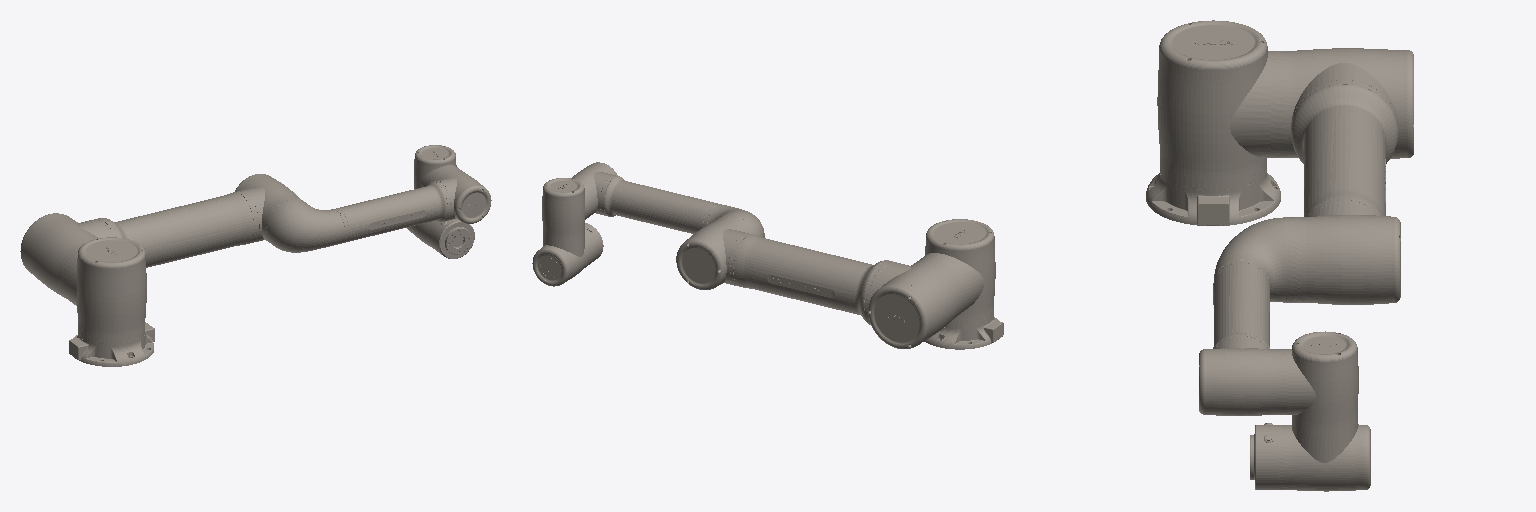
robot.urdf — jaka_zu18:
<?xml version="1.0" encoding="utf-8"?>
<!-- This URDF was automatically created by SolidWorks to URDF Exporter! Originally created by [author] ([email redacted]) 
     Commit Version: 1.5.1-0-g916b5db  Build Version: 1.5.7152.31018
     For more information, please see http://wiki.ros.org/sw_urdf_exporter -->
<robot
  name="jaka_zu18">

  <link name="world" />
  

  <joint name="fixed" type="fixed">
     <parent link="world"/>
     <child link="Link_0"/>
  </joint>

  <link
    name="Link_0">
    <inertial>
      <origin
        xyz="0.00090083 -2.9488E-07 0.020561"
        rpy="0 0 0" />
      <mass
        value="0.8175" />
      <inertia
        ixx="0.010034"
        ixy="-3.1423E-09"
        ixz="5.025E-05"
        iyy="0.01287"
        iyz="2.3128E-08"
        izz="0.021463" />
    </inertial>
    <visual>
      <origin
        xyz="0 0 0"
        rpy="0 0 0" />
      <geometry>
        <mesh
          filename="package://jaka_description/meshes/jaka_zu18_meshes/base_link.STL" />
      </geometry>
      <material
        name="">
        <color
          rgba="0.64706 0.61961 0.58824 1" />
      </material>
    </visual>
    <collision>
      <origin
        xyz="0 0 0"
        rpy="0 0 0" />
      <geometry>
        <mesh
          filename="package://jaka_description/meshes/jaka_zu18_meshes/base_link.STL" />
      </geometry>
    </collision>
  </link>
  <link
    name="Link_1">
    <inertial>
      <origin
        xyz="-1.3532E-07 0.0039698 -0.0033275"
        rpy="0 0 0" />
      <mass
        value="3.78" />
      <inertia
        ixx="0.13784"
        ixy="1.785E-07"
        ixz="-5.8341E-07"
        iyy="0.1346"
        iyz="-0.00028533"
        izz="0.092584" />
    </inertial>
    <visual>
      <origin
        xyz="0 0 0"
        rpy="0 0 0" />
      <geometry>
        <mesh
          filename="package://jaka_description/meshes/jaka_zu18_meshes/Link_01.STL" />
      </geometry>
      <material
        name="">
        <color
          rgba="0.64706 0.61961 0.58824 1" />
      </material>
    </visual>
    <collision>
      <origin
        xyz="0 0 0"
        rpy="0 0 0" />
      <geometry>
        <mesh
          filename="package://jaka_description/meshes/jaka_zu18_meshes/Link_01.STL" />
      </geometry>
    </collision>
  </link>
  <joint
    name="joint_1"
    type="revolute">
    <origin
      xyz="0 0 0.14265"
      rpy="0 0 0" />
    <parent
      link="Link_0" />
    <child
      link="Link_1" />
    <axis
      xyz="0 0 -1" />
    <limit
      lower="-6.28"
      upper="6.28"
      effort="2000"
      velocity="1.57" />
    <dynamics damping="30" friction="20"/>
  </joint>
  <link
    name="Link_2">
    <inertial>
      <origin
        xyz="0.20686 3.446E-07 -0.18004"
        rpy="0 0 0" />
      <mass
        value="9.68" />
      <inertia
        ixx="0.2333"
        ixy="1.612E-06"
        ixz="0.013448"
        iyy="3.2427"
        iyz="1.1055E-07"
        izz="3.1836" />
    </inertial>
    <visual>
      <origin
        xyz="0 0 0"
        rpy="0 0 0" />
      <geometry>
        <mesh
          filename="package://jaka_description/meshes/jaka_zu18_meshes/Link_02.STL" />
      </geometry>
      <material
        name="">
        <color
          rgba="0.64706 0.61961 0.58824 1" />
      </material>
    </visual>
    <collision>
      <origin
        xyz="0 0 0"
        rpy="0 0 0" />
      <geometry>
        <mesh
          filename="package://jaka_description/meshes/jaka_zu18_meshes/Link_02.STL" />
      </geometry>
    </collision>
  </link>
  <joint
    name="joint_2"
    type="revolute">
    <origin
      xyz="0 0 0"
      rpy="1.5708 0 0" />
    <parent
      link="Link_1" />
    <child
      link="Link_2" />
    <axis
      xyz="0 0 1" />
    <limit
      lower="-1.48"
      upper="4.62"
      effort="8000"
      velocity="1.57" />
    <dynamics damping="30" friction="20"/>
  </joint>
  <link
    name="Link_3">
    <inertial>
      <origin
        xyz="0.2114 -1.2507E-07 -0.046052"
        rpy="0 0 0" />
      <mass
        value="3.1" />
      <inertia
        ixx="0.030746"
        ixy="2.2248E-07"
        ixz="-0.026496"
        iyy="0.59871"
        iyz="-7.3813E-08"
        izz="0.59285" />
    </inertial>
    <visual>
      <origin
        xyz="0 0 0"
        rpy="0 0 0" />
      <geometry>
        <mesh
          filename="package://jaka_description/meshes/jaka_zu18_meshes/Link_03.STL" />
      </geometry>
      <material
        name="">
        <color
          rgba="0.64706 0.61961 0.58824 1" />
      </material>
    </visual>
    <collision>
      <origin
        xyz="0 0 0"
        rpy="0 0 0" />
      <geometry>
        <mesh
          filename="package://jaka_description/meshes/jaka_zu18_meshes/Link_03.STL" />
      </geometry>
    </collision>
  </link>
  <joint
    name="joint_3"
    type="revolute">
    <origin
      xyz="0.51 0 0"
      rpy="0 0 0" />
    <parent
      link="Link_2" />
    <child
      link="Link_3" />
    <axis
      xyz="0 0 1" />
    <limit
      lower="-3.05"
      upper="3.05"
      effort="8000"
      velocity="1.57" />
    <dynamics damping="13" friction="10"/>
  </joint>
  <link
    name="Link_4">
    <inertial>
      <origin
        xyz="4.6823E-07 -0.003388 0.0032625"
        rpy="0 0 0" />
      <mass
        value="0.88" />
      <inertia
        ixx="0.012275"
        ixy="7.981E-09"
        ixz="-1.3755E-08"
        iyy="0.0082652"
        iyz="-7.0839E-05"
        izz="0.011814" />
    </inertial>
    <visual>
      <origin
        xyz="0 0 0"
        rpy="0 0 0" />
      <geometry>
        <mesh
          filename="package://jaka_description/meshes/jaka_zu18_meshes/Link_04.STL" />
      </geometry>
      <material
        name="">
        <color
          rgba="0.64706 0.61961 0.58824 1" />
      </material>
    </visual>
    <collision>
      <origin
        xyz="0 0 0"
        rpy="0 0 0" />
      <geometry>
        <mesh
          filename="package://jaka_description/meshes/jaka_zu18_meshes/Link_04.STL" />
      </geometry>
    </collision>
  </link>
  <joint
    name="joint_4"
    type="revolute">
    <origin
      xyz="0.4 0 -0.154"
      rpy="0 0 0" />
    <parent
      link="Link_3" />
    <child
      link="Link_4" />
    <axis
      xyz="0 0 1" />
    <limit
      lower="-1.48"
      upper="4.62"
      effort="5000"
      velocity="1.57" />
    <dynamics damping="3.5" friction="3"/>
  </joint>
  <link
    name="Link_5">
    <inertial>
      <origin
        xyz="3.9968E-07 0.001346 -0.0031552"
        rpy="0 0 0" />
      <mass
        value="1" />
      <inertia
        ixx="0.013285"
        ixy="-5.0084E-09"
        ixz="2.0733E-08"
        iyy="0.0085081"
        iyz="-2.45E-05"
        izz="0.012821" />
    </inertial>
    <visual>
      <origin
        xyz="0 0 0"
        rpy="0 0 0" />
      <geometry>
        <mesh
          filename="package://jaka_description/meshes/jaka_zu18_meshes/Link_05.STL" />
      </geometry>
      <material
        name="">
        <color
          rgba="0.64706 0.61961 0.58824 1" />
      </material>
    </visual>
    <collision>
      <origin
        xyz="0 0 0"
        rpy="0 0 0" />
      <geometry>
        <mesh
          filename="package://jaka_description/meshes/jaka_zu18_meshes/Link_05.STL" />
      </geometry>
    </collision>
  </link>
  <joint
    name="joint_5"
    type="revolute">
    <origin
      xyz="0 -0.115 0"
      rpy="1.5708 0 0" />
    <parent
      link="Link_4" />
    <child
      link="Link_5" />
    <axis
      xyz="0 0 1" />
    <limit
      lower="-6.28"
      upper="6.28"
      effort="5000"
      velocity="1.57" />
    <dynamics damping="3.5" friction="3"/>
  </joint>
  <link
    name="Link_6">
    <inertial>
      <origin
        xyz="2.2277E-05 0.00011612 -0.021557"
        rpy="0 0 0" />
      <mass
        value="0.22" />
      <inertia
        ixx="0.0010745"
        ixy="-6.8627E-07"
        ixz="-6.4908E-07"
        iyy="0.0010759"
        iyz="1.8508E-06"
        izz="0.0017797" />
    </inertial>
    <visual>
      <origin
        xyz="0 0 0"
        rpy="0 0 0" />
      <geometry>
        <mesh
          filename="package://jaka_description/meshes/jaka_zu18_meshes/Link_06.STL" />
      </geometry>
      <material
        name="">
        <color
          rgba="0.64706 0.61961 0.58824 1" />
      </material>
    </visual>
    <collision>
      <origin
        xyz="0 0 0"
        rpy="0 0 0" />
      <geometry>
        <mesh
          filename="package://jaka_description/meshes/jaka_zu18_meshes/Link_06.STL" />
      </geometry>
    </collision>
  </link>
  <joint
    name="joint_6"
    type="revolute">
    <origin
      xyz="0 0.1035 0"
      rpy="-1.5708 0 0" />
    <parent
      link="Link_5" />
    <child
      link="Link_6" />
    <axis
      xyz="0 0 1" />
    <limit
      lower="-6.28"
      upper="6.28"
      effort="500"
      velocity="1.57" />
    <dynamics damping="3.5" friction="3"/>
  </joint>

  <transmission name="trans_joint_1">
    <type>transmission_interface/SimpleTransmission</type>
    <joint name="joint_1">
      <hardwareInterface>hardware_interface/PositionJointInterface</hardwareInterface>
    </joint>
    <actuator name="joint_1_motor">
      <hardwareInterface>hardware_interface/PositionJointInterface</hardwareInterface>
      <mechanicalReduction>1</mechanicalReduction>
    </actuator>
  </transmission>
  <transmission name="trans_joint_2">
    <type>transmission_interface/SimpleTransmission</type>
    <joint name="joint_2">
      <hardwareInterface>hardware_interface/PositionJointInterface</hardwareInterface>
    </joint>
    <actuator name="joint_2_motor">
      <hardwareInterface>hardware_interface/PositionJointInterface</hardwareInterface>
      <mechanicalReduction>1</mechanicalReduction>
    </actuator>
  </transmission>
  <transmission name="trans_joint_3">
    <type>transmission_interface/SimpleTransmission</type>
    <joint name="joint_3">
      <hardwareInterface>hardware_interface/PositionJointInterface</hardwareInterface>
    </joint>
    <actuator name="joint_3_motor">
      <hardwareInterface>hardware_interface/PositionJointInterface</hardwareInterface>
      <mechanicalReduction>1</mechanicalReduction>
    </actuator>
  </transmission>
  <transmission name="trans_joint_4">
    <type>transmission_interface/SimpleTransmission</type>
    <joint name="joint_4">
      <hardwareInterface>hardware_interface/PositionJointInterface</hardwareInterface>
    </joint>
    <actuator name="joint_4_motor">
      <hardwareInterface>hardware_interface/PositionJointInterface</hardwareInterface>
      <mechanicalReduction>1</mechanicalReduction>
    </actuator>
  </transmission>
  <transmission name="trans_joint_5">
    <type>transmission_interface/SimpleTransmission</type>
    <joint name="joint_5">
      <hardwareInterface>hardware_interface/PositionJointInterface</hardwareInterface>
    </joint>
    <actuator name="joint_5_motor">
      <hardwareInterface>hardware_interface/PositionJointInterface</hardwareInterface>
      <mechanicalReduction>1</mechanicalReduction>
    </actuator>
  </transmission>
  <transmission name="trans_joint_6">
    <type>transmission_interface/SimpleTransmission</type>
    <joint name="joint_6">
      <hardwareInterface>hardware_interface/PositionJointInterface</hardwareInterface>
    </joint>
    <actuator name="joint_6_motor">
      <hardwareInterface>hardware_interface/PositionJointInterface</hardwareInterface>
      <mechanicalReduction>1</mechanicalReduction>
    </actuator>
  </transmission>
  <gazebo>
    <plugin name="gazebo_ros_control" filename="libgazebo_ros_control.so">
      <robotNamespace>/</robotNamespace>
    </plugin>
  </gazebo>
</robot>

--- Render facts (derived) ---
Views: 3 orthographic renders of the robot side by side, from view 1: azimuth 30°, elevation 25°; view 2: azimuth 150°, elevation 25°; view 3: azimuth 270°, elevation 25°.
Robot: jaka_zu18 — 8 links, 7 joints (6 revolute, 1 fixed); root link world; default pose: all joints at 0.
Links seen in each view (by area): view 1: Link_2, Link_3, Link_1, Link_0, Link_6, Link_4; view 2: Link_2, Link_3, Link_1, Link_4, Link_5, Link_0; view 3: Link_2, Link_1, Link_3, Link_4, Link_5, Link_0, Link_6.
Link boxes in pixels (bbox=[...]): Link_2: bbox=[20, 174, 302, 301]; Link_3: bbox=[266, 166, 491, 252]; Link_1: bbox=[65, 237, 146, 346]; Link_0: bbox=[69, 322, 154, 366]; Link_6: bbox=[432, 219, 474, 258]; Link_4: bbox=[414, 145, 457, 188]; Link_2: bbox=[676, 215, 970, 348]; Link_3: bbox=[572, 162, 764, 237]; Link_1: bbox=[924, 219, 995, 328]; Link_4: bbox=[542, 178, 592, 244]; Link_5: bbox=[532, 231, 596, 286]; Link_0: bbox=[924, 317, 1003, 349]; Link_2: bbox=[1271, 48, 1413, 304]; Link_1: bbox=[1157, 20, 1270, 193]; Link_3: bbox=[1199, 217, 1287, 415]; Link_4: bbox=[1288, 331, 1358, 437]; Link_5: bbox=[1278, 424, 1370, 491]; Link_0: bbox=[1146, 173, 1280, 225]; Link_6: bbox=[1250, 423, 1277, 489].
Size in the robot's own frame: 1.05 by 0.3722 by 0.2587 metres.
Meshes: 7 distinct files referenced, 7 mesh visuals loaded (7 binary STL).
